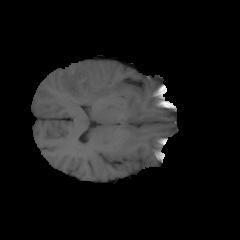glioma: (57, 62, 116, 108)
